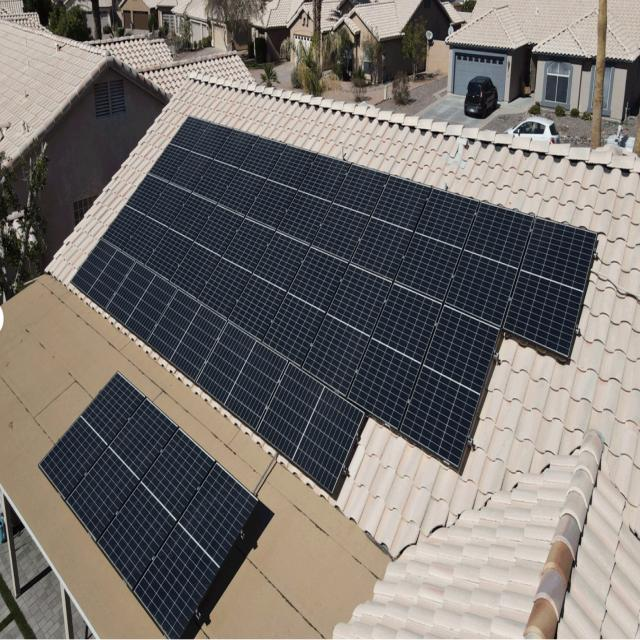clean-solar-panel: (72, 118, 596, 491), (40, 372, 256, 636)
